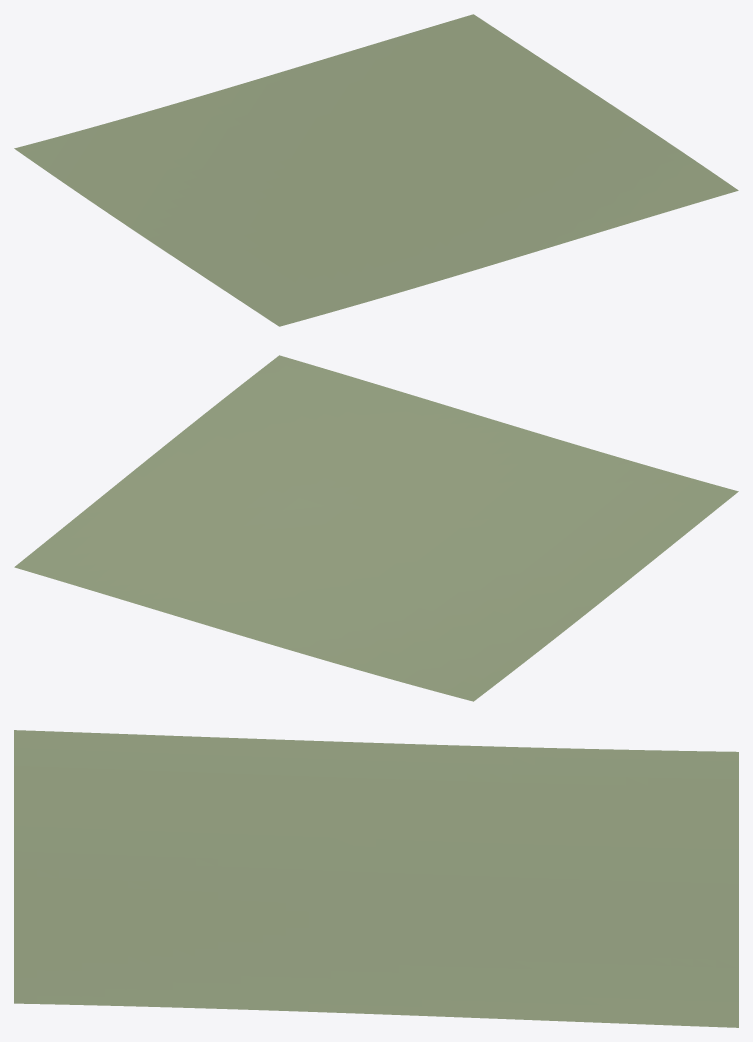
Rendered from expanse-9-27.glb.
3 views of the same model, one above another, from view 1: azimuth 30°, elevation 25°; view 2: azimuth 150°, elevation 25°; view 3: azimuth 270°, elevation 25° (orthographic). The views are drawn at different scales.
Parts seen in each view (by area): view 1: expanse-9-27; view 2: expanse-9-27; view 3: expanse-9-27.
Boxes of the visible parts, bbox=[...] form: expanse-9-27: bbox=[14, 14, 738, 326]; expanse-9-27: bbox=[14, 355, 738, 701]; expanse-9-27: bbox=[14, 730, 738, 1027].
Bounding box in the file's own units: 256 × 21.29 × 256.
